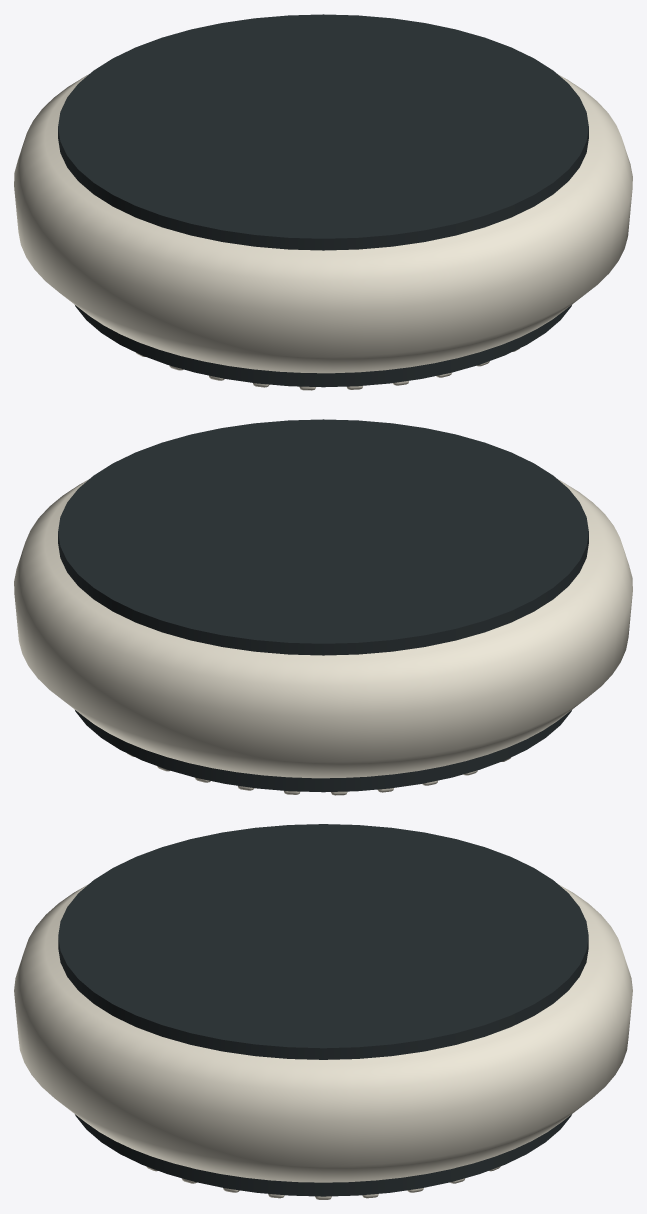
Rendered from safety-smoke-co-alarm.glb.
3 views of the same model, one above another, from view 1: azimuth 30°, elevation 25°; view 2: azimuth 150°, elevation 25°; view 3: azimuth 270°, elevation 25° (orthographic).
Parts seen in each view (by area): view 1: catalog_surface_UVMap, catalog_surface_RealismUV; view 2: catalog_surface_UVMap, catalog_surface_RealismUV; view 3: catalog_surface_UVMap, catalog_surface_RealismUV.
Boxes of the visible parts, <box> form: catalog_surface_UVMap: <box>58,14,588,387</box>; catalog_surface_RealismUV: <box>14,74,632,390</box>; catalog_surface_UVMap: <box>58,419,588,792</box>; catalog_surface_RealismUV: <box>14,479,632,795</box>; catalog_surface_UVMap: <box>58,824,588,1196</box>; catalog_surface_RealismUV: <box>14,884,632,1199</box>.
Bounding box in the file's own units: 0.14 × 0.045 × 0.14.
